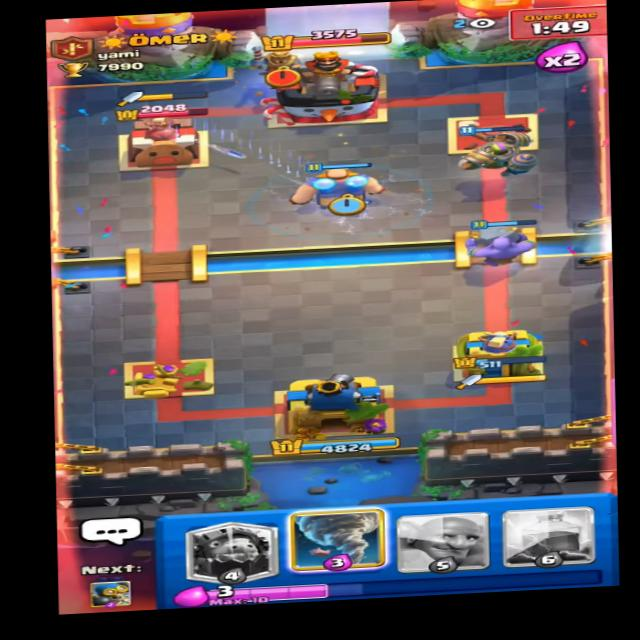prince: (244, 39, 304, 91)
